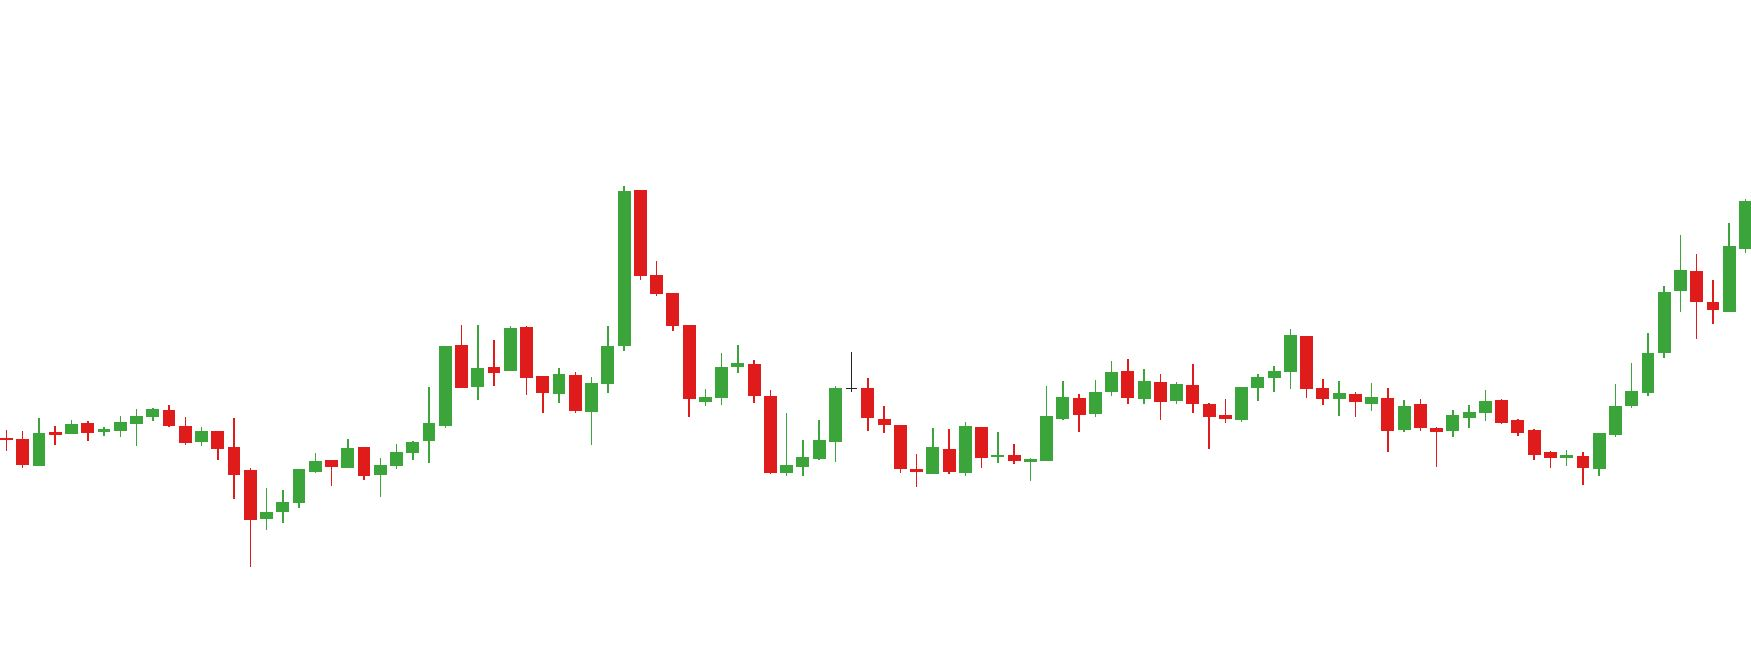sell: (1188, 326, 1319, 424)
